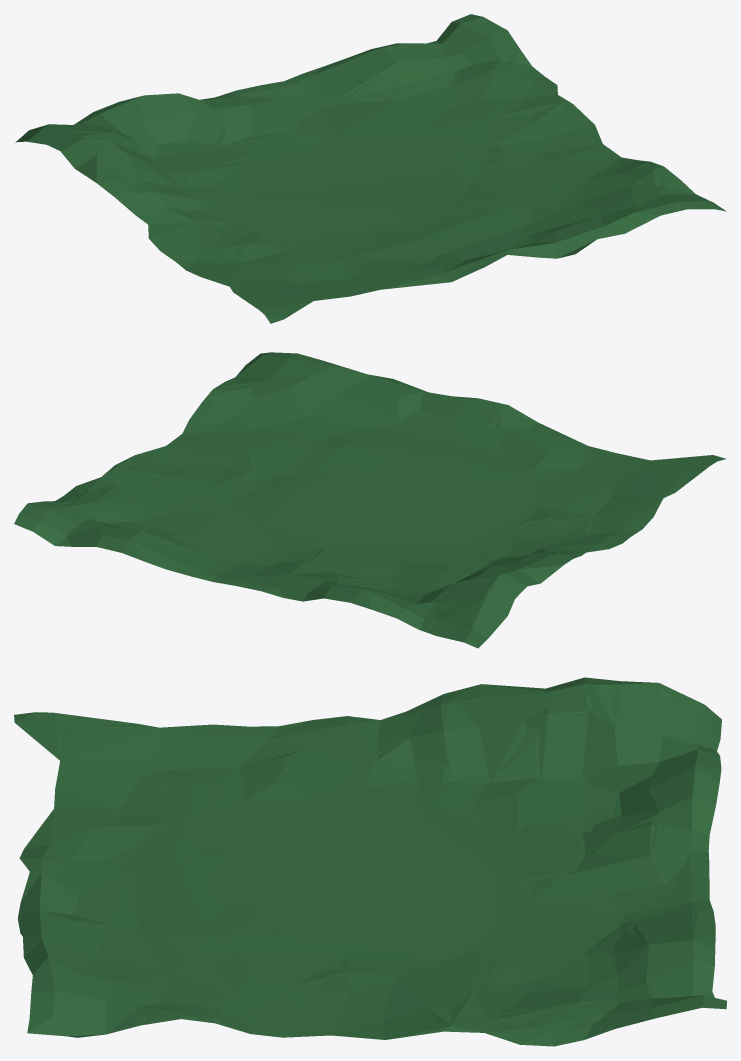
The model's file is terrain 1.fbx.
3 views of the same model, one above another, from view 1: azimuth 30°, elevation 25°; view 2: azimuth 150°, elevation 25°; view 3: azimuth 270°, elevation 25° (orthographic). The views are drawn at different scales.
Parts seen in each view (by area): view 1: Plane; view 2: Plane; view 3: Plane.
Part boxes in pixels (x1,y1,x2,y2): Plane: (15,14,726,323); Plane: (14,352,725,648); Plane: (14,677,726,1046).
Bounding box in the file's own units: 2716 × 240 × 2501.
